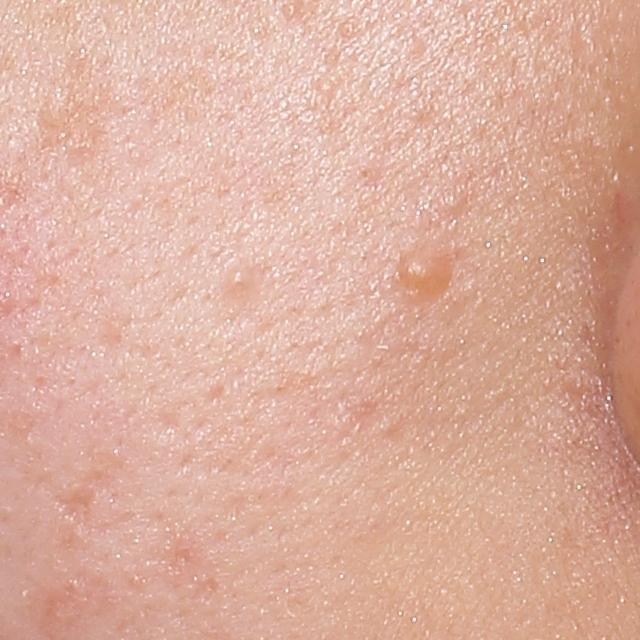atrophic_scar: (53, 484, 101, 543)
comedo: (228, 266, 253, 291), (441, 188, 463, 211)
